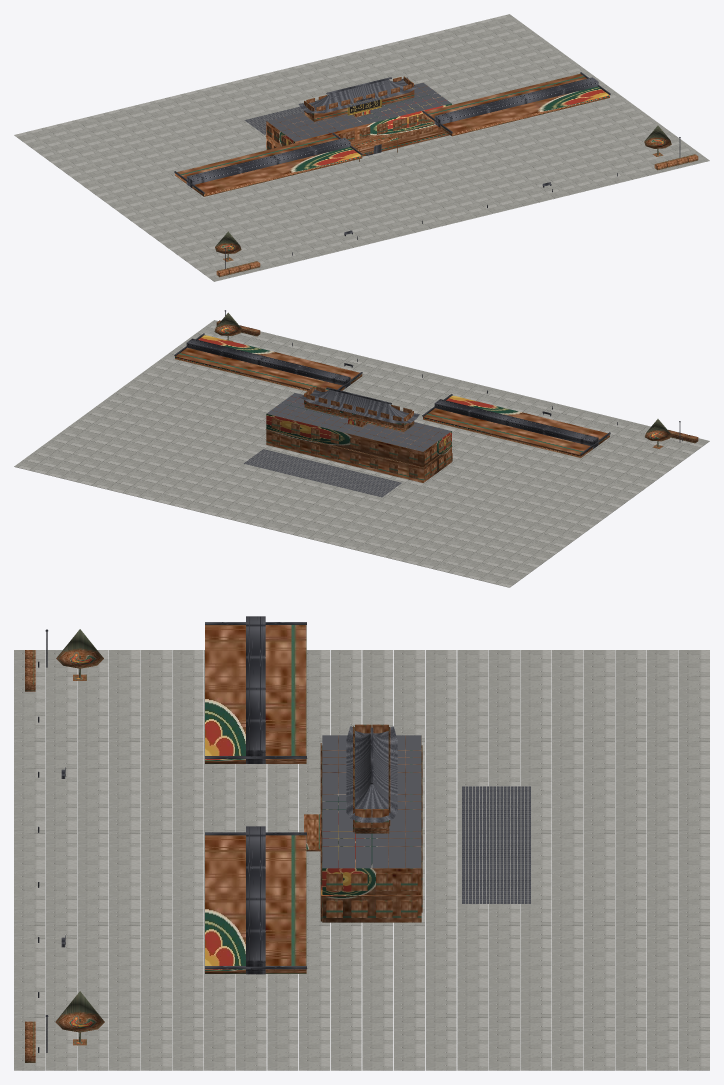
3 views of the same model, one above another, from view 1: azimuth 30°, elevation 25°; view 2: azimuth 150°, elevation 25°; view 3: azimuth 270°, elevation 25° (orthographic). The views are drawn at different scales.
Visible parts, largest first — view 1: 11710_01_05539_009_01__plinth_ground_base, 11710_01_05539_009_02__mass_body_facade, 11710_01_05539_009_03__roof_deck_structure, 11710_01_05539_009_03__roof_metal_ornament, 11710_01_05539_009_06__landscape_greenery, 11710_01_05539_009_05__window_sash_glass; view 2: 11710_01_05539_009_01__plinth_ground_base, 11710_01_05539_009_02__mass_body_facade, 11710_01_05539_009_03__roof_deck_structure, 11710_01_05539_009_03__roof_metal_ornament, 11710_01_05539_009_06__landscape_greenery; view 3: 11710_01_05539_009_01__plinth_ground_base, 11710_01_05539_009_02__mass_body_facade, 11710_01_05539_009_03__roof_deck_structure, 11710_01_05539_009_03__roof_metal_ornament, 11710_01_05539_009_06__landscape_greenery.
Part boxes in pixels (x1,y1,x2,y2): 11710_01_05539_009_01__plinth_ground_base: (14, 14, 709, 281); 11710_01_05539_009_02__mass_body_facade: (175, 73, 609, 196); 11710_01_05539_009_03__roof_deck_structure: (244, 77, 451, 141); 11710_01_05539_009_03__roof_metal_ornament: (174, 72, 610, 193); 11710_01_05539_009_06__landscape_greenery: (215, 125, 698, 277); 11710_01_05539_009_05__window_sash_glass: (316, 84, 444, 147); 11710_01_05539_009_01__plinth_ground_base: (14, 320, 709, 587); 11710_01_05539_009_02__mass_body_facade: (175, 335, 609, 482); 11710_01_05539_009_03__roof_deck_structure: (244, 387, 451, 497); 11710_01_05539_009_03__roof_metal_ornament: (174, 333, 610, 455); 11710_01_05539_009_06__landscape_greenery: (214, 312, 698, 448); 11710_01_05539_009_01__plinth_ground_base: (14, 650, 709, 1070); 11710_01_05539_009_02__mass_body_facade: (205, 625, 422, 973); 11710_01_05539_009_03__roof_deck_structure: (322, 726, 530, 903); 11710_01_05539_009_03__roof_metal_ornament: (205, 616, 373, 974); 11710_01_05539_009_06__landscape_greenery: (25, 629, 104, 1062).
Bounding box in the file's own units: 120 × 14.05 × 83.95.
Materials: 7 (7 with a texture image).
